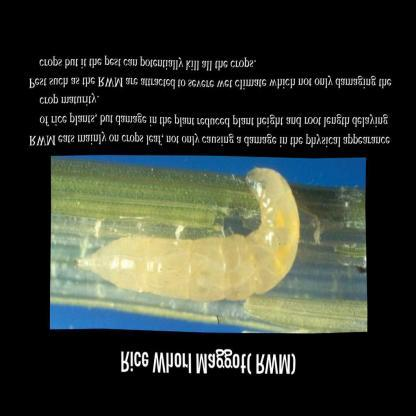whorl-maggot: (74, 165, 304, 307)
